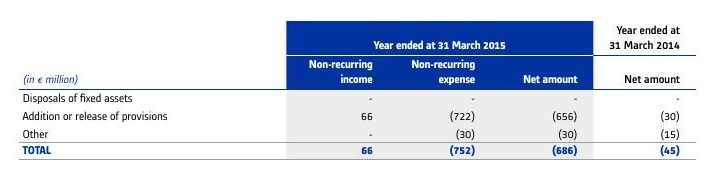table: (0, 0, 711, 179)
